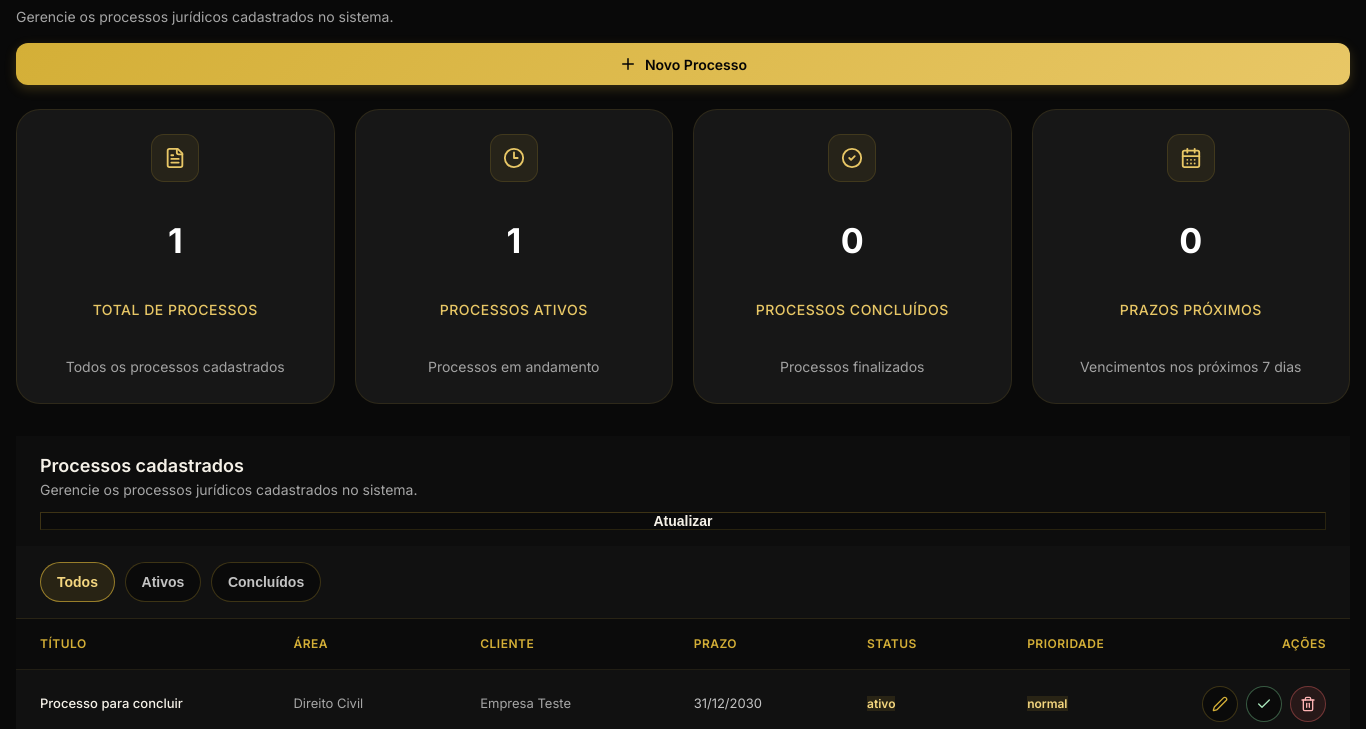
Test case: LexFlow frontend behaviors › confirms completion, uses the existing update API and refreshes the metrics
The image size is (1366, 729).
What coordinates should you click on to do the following:
click the button named "concluir processo para concluir"
I would click on:
 (1264, 704)
Its box is [1246, 686, 1282, 722].
(page scrolled)
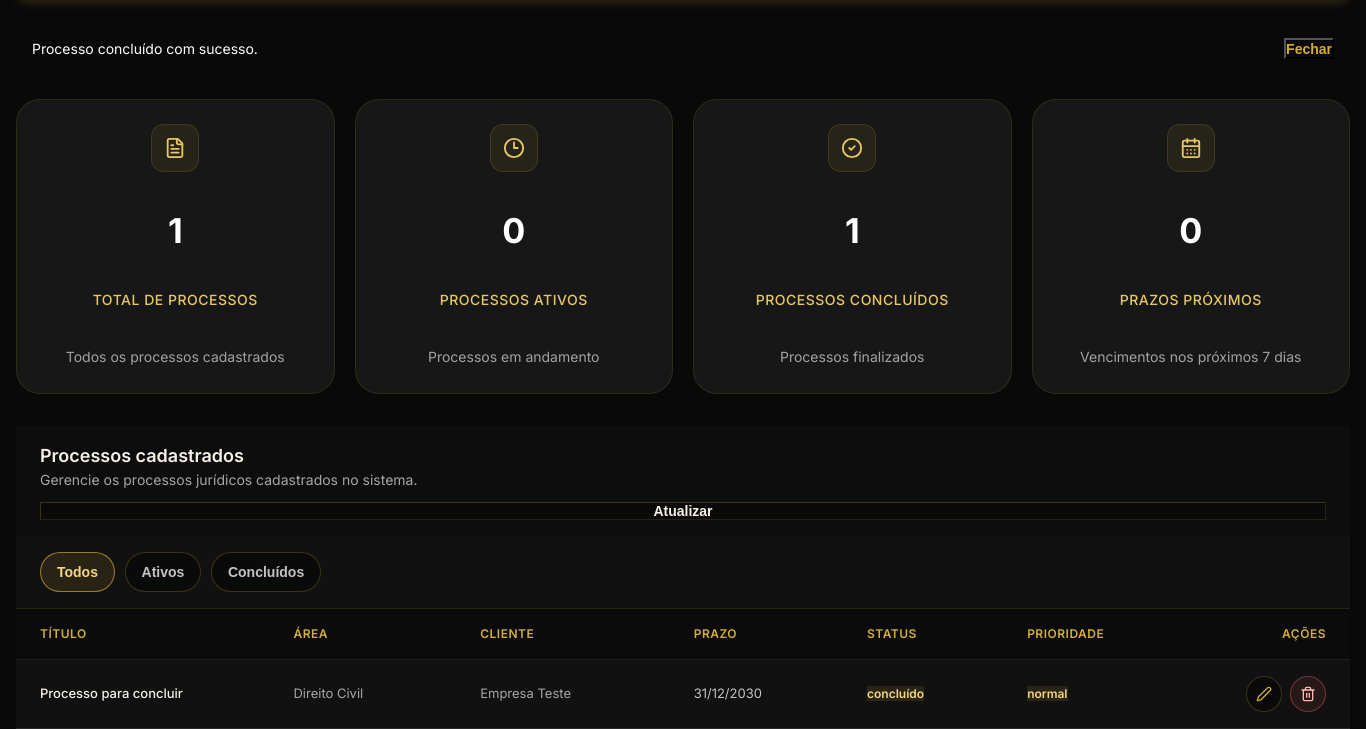
Check: the text "concluído" is shown, box [867, 686, 924, 701]
